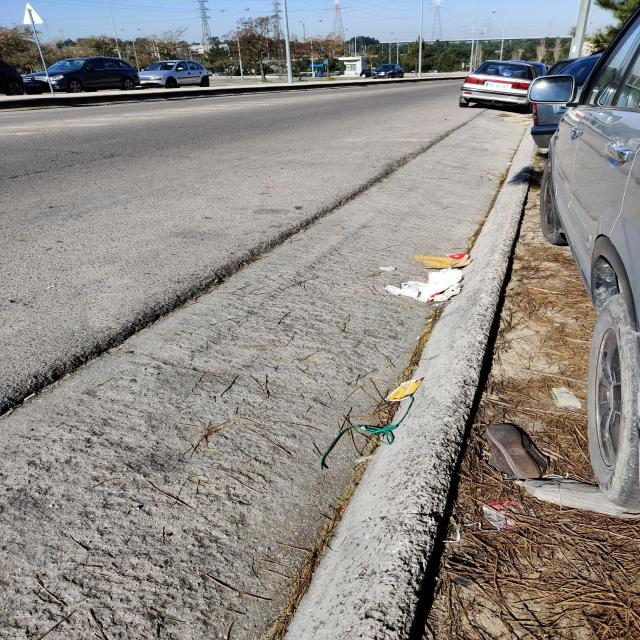litter: (486, 423, 550, 481), (381, 267, 465, 304), (413, 254, 474, 268), (23, 393, 37, 401)
